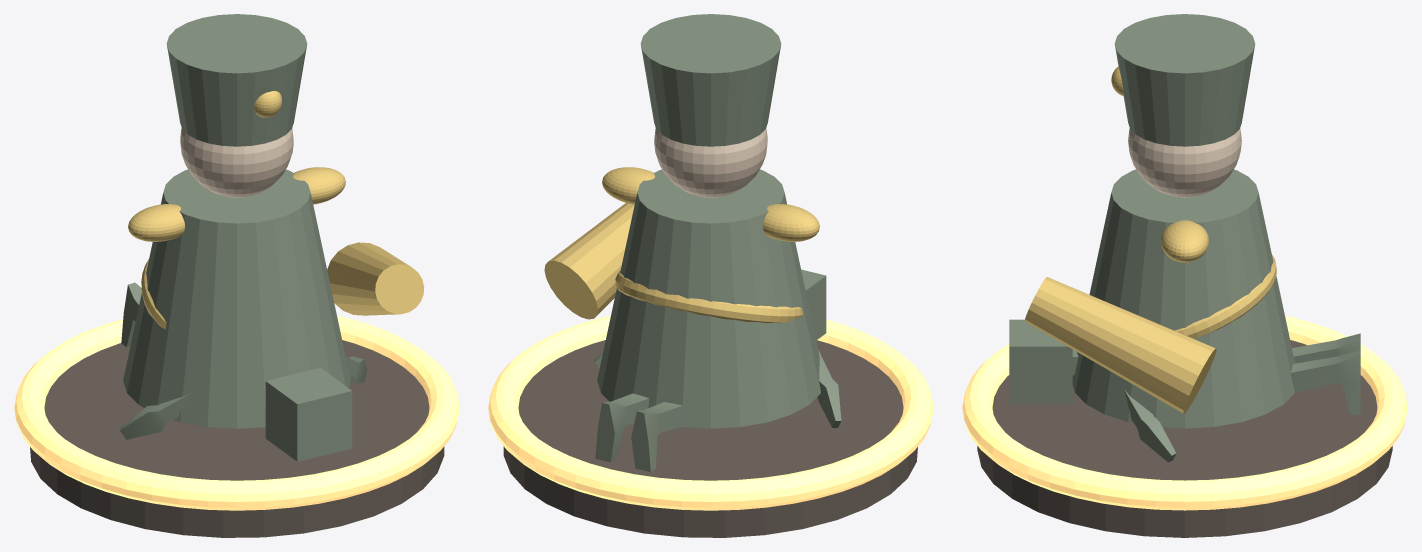
File: unit_corso.glb
The picture shows the model from 3 angles, left to right: view 1: azimuth 30°, elevation 25°; view 2: azimuth 150°, elevation 25°; view 3: azimuth 270°, elevation 25°; orthographic projection.
Visible parts, largest first — view 1: Cone, Cylinder, Torus, Cone.001, Proxy, Cone.002, Sphere.002, Sphere, Sphere.001, Sphere.003, Torus.001; view 2: Cone, Cylinder, Torus, Cone.001, Proxy, Cone.002, Sphere.002, Torus.001, Sphere, Sphere.001; view 3: Cone, Cylinder, Torus, Cone.001, Cone.002, Proxy, Sphere.002, Torus.001, Sphere.001.
Boxes of the visible parts, x1=… form: Cone: x1=123, y1=169, x2=350, y2=428; Cylinder: x1=30, y1=340, x2=444, y2=537; Torus: x1=14, y1=316, x2=459, y2=510; Cone.001: x1=166, y1=14, x2=307, y2=146; Proxy: x1=120, y1=282, x2=367, y2=461; Cone.002: x1=327, y1=242, x2=424, y2=315; Sphere.002: x1=180, y1=128, x2=293, y2=197; Sphere: x1=128, y1=204, x2=184, y2=241; Sphere.001: x1=293, y1=167, x2=345, y2=204; Sphere.003: x1=254, y1=91, x2=281, y2=117; Torus.001: x1=141, y1=259, x2=166, y2=329; Cone: x1=597, y1=169, x2=820, y2=428; Cylinder: x1=503, y1=340, x2=917, y2=537; Torus: x1=488, y1=316, x2=933, y2=510; Cone.001: x1=640, y1=14, x2=781, y2=146; Proxy: x1=594, y1=269, x2=841, y2=472; Cone.002: x1=544, y1=203, x2=634, y2=319; Sphere.002: x1=654, y1=128, x2=767, y2=197; Torus.001: x1=615, y1=270, x2=802, y2=323; Sphere: x1=763, y1=204, x2=819, y2=241; Sphere.001: x1=602, y1=167, x2=654, y2=204; Cone: x1=1072, y1=169, x2=1294, y2=428; Cylinder: x1=977, y1=340, x2=1392, y2=537; Torus: x1=962, y1=315, x2=1407, y2=510; Cone.001: x1=1114, y1=14, x2=1255, y2=146; Cone.002: x1=1024, y1=277, x2=1216, y2=413; Proxy: x1=1009, y1=319, x2=1360, y2=462; Sphere.002: x1=1128, y1=128, x2=1241, y2=197; Torus.001: x1=1175, y1=255, x2=1276, y2=338; Sphere.001: x1=1161, y1=220, x2=1208, y2=262.
Size of the model in its own units: 1.33 by 1.34 by 1.33.
